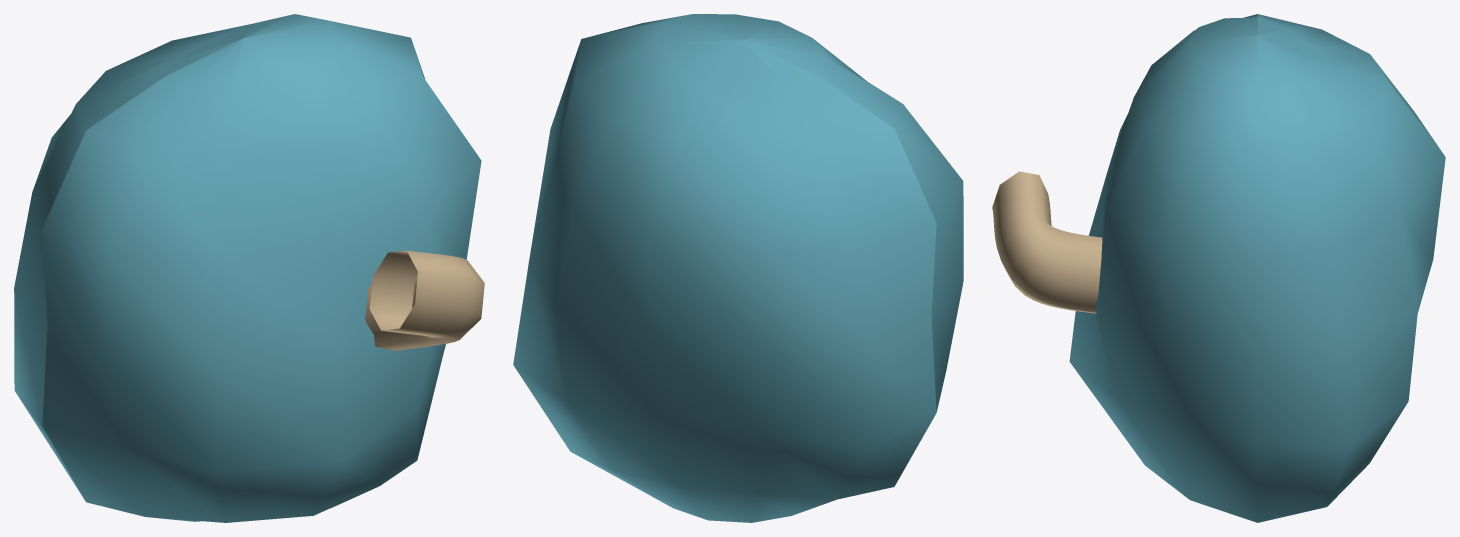
The model's file is left_hamate.glb.
3 renders of one model, left to right at view 1: azimuth 30°, elevation 25°; view 2: azimuth 150°, elevation 25°; view 3: azimuth 270°, elevation 25°, orthographic. The views are drawn at different scales.
Visible parts, largest first — view 1: left_hamate:body, left_hamate:hook; view 2: left_hamate:body; view 3: left_hamate:body, left_hamate:hook.
Part boxes in pixels (x1,y1,x2,y2): left_hamate:body: (14, 14, 481, 522); left_hamate:hook: (365, 250, 484, 350); left_hamate:body: (513, 14, 963, 522); left_hamate:body: (1069, 14, 1445, 522); left_hamate:hook: (992, 171, 1102, 313).
Bounding box in the file's own units: 0.0304 × 0.0348 × 0.0319.
